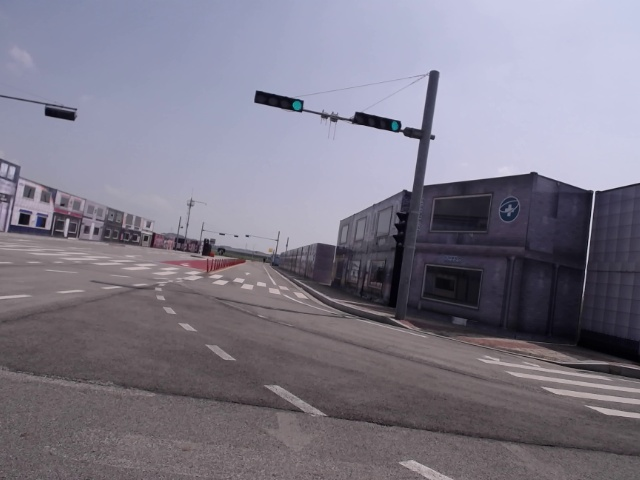straight_green_4: (252, 95, 318, 116), (115, 82, 181, 100)
